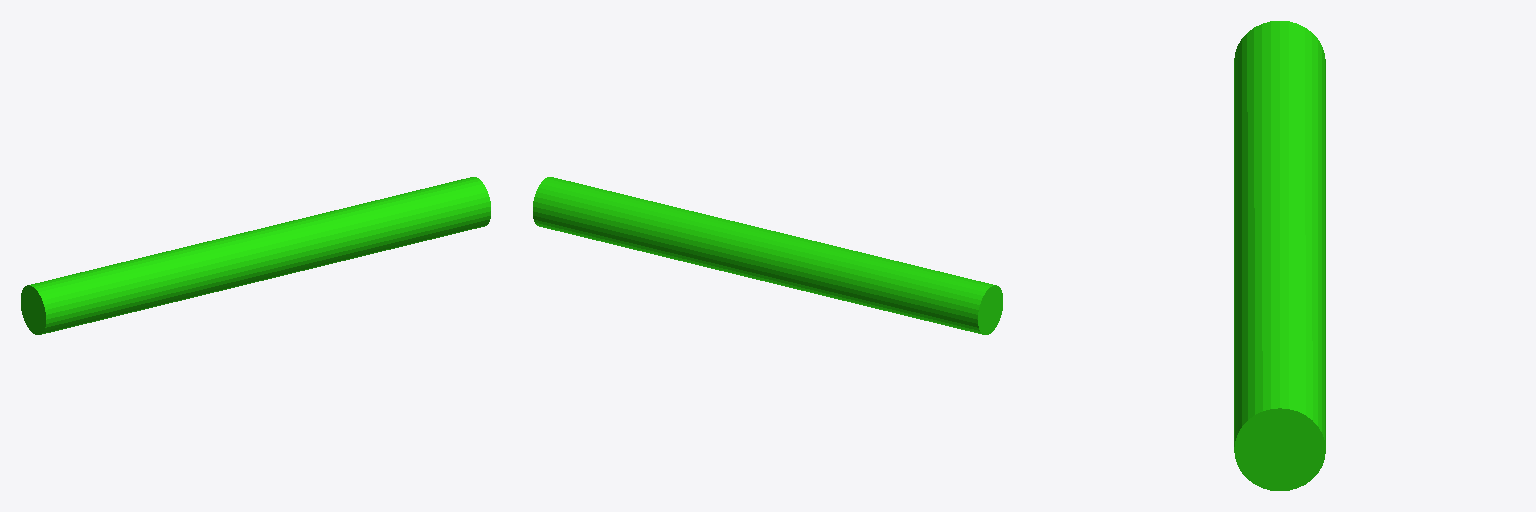
The robot description file, URDF, robot "Puma":
<?xml version="1.0" ?>

<robot name="Puma">

	<link name="ground">
		<inertial>
			<origin xyz="0.0 0.0 0.0" rpy="0 0 0" />
			<mass value="0.001" />
			<inertia ixx="0.01" iyy="0.01" izz="0.01" ixy="0" ixz="0" iyz="0" />
		</inertial>
		<visual>
			<origin xyz="0.0 0.0 0.0" rpy="0 0 0" />
			<geometry>
				<mesh filename="../../../../examples/models/puma560/meshes/base_bl.obj" scale="1 1 1" />
			</geometry>
		</visual>
	</link>

	<link name="base">
		<inertial>
			<origin xyz="0.0 0.0 0.0" rpy="0 0 0" />
			<mass value="34.4" />
			<inertia ixx="0.18" iyy="0.18" izz="0.35" ixy="0" ixz="0" iyz="0" />
		</inertial>
		<visual>
			<origin xyz="0.0 0.0 0.0" rpy="0 0 0" />
			<geometry>
				<mesh filename="../../../../examples/models/puma560/meshes/shoulder_bl.obj" scale="1 1 1" />
			</geometry>
		</visual>
	</link>

	<link name="upper_arm">
		<inertial>
			<origin xyz="0.068 0.006 -0.016" rpy="0 0 0" />
			<mass value="17.4" />
			<inertia ixx="0.130" iyy="0.524" izz="0.539" ixy="0" ixz="0" iyz="0" />
		</inertial>
		<visual>
			<origin xyz="0.0 0.0 0.0" rpy="0 0 0" />
			<geometry>
				<mesh filename="../../../../examples/models/puma560/meshes/upper_arm_bl.obj" scale="1 1 1" />
			</geometry>
		</visual>
	</link>

	<link name="lower_arm">
		<inertial>
			<origin xyz="0.0 -0.143 0.014" rpy="0 0 0" />
			<mass value="6.04" />
			<inertia ixx="0.066" iyy="0.0125" izz="0.086" ixy="0" ixz="0" iyz="0" />
		</inertial>
		<visual>
			<origin xyz="-0.02 0.0 -0.005" rpy="0 0 0" />
			<geometry>
				<mesh filename="../../../../examples/models/puma560/meshes/lower_arm_bl.obj" scale="1 1 1" />
			</geometry>
		</visual>
	</link>

	<link name="wrist-hand">
		<inertial>
			<origin xyz="0.0 0.0 -0.019" rpy="0 0 0" />
			<mass value="0.82" />
			<inertia ixx="0.0018" iyy="0.0018" izz="0.0013" ixy="0" ixz="0" iyz="0" />
		</inertial>
		<visual>
			<origin xyz="0.0 0.0 0.0" rpy="0 0 0" />
			<geometry>
				<mesh filename="../../../../examples/models/puma560/meshes/hand_bl.obj" scale="1 1 1" />
			</geometry>
		</visual>
	</link>

	<link name="wrist-finger">
		<inertial>
			<origin xyz="0.0 0.0 0.0" rpy="0 0 0" />
			<mass value="0.34" />
			<inertia ixx="0.0003" iyy="0.0003" izz="0.0004" ixy="0" ixz="0" iyz="0" />
		</inertial>
		<visual>
			<origin xyz="0.0 0.0 0.0" rpy="0 0 0" />
			<geometry>
				<mesh filename="../../../../examples/models/puma560/meshes/finger_bl.obj" scale="1 1 1" />
			</geometry>
		</visual>
	</link>

	<link name="end-effector">
		<inertial>
			<origin xyz="0.0 0.0 0.032" rpy="0 0 0" />
			<mass value="0.39" />
			<inertia ixx="0.005" iyy="0.001" izz="0.005" ixy="0" ixz="0" iyz="0" />
		</inertial>
		<visual>
			<origin xyz="0.0 0.1 0.0" rpy="1.5707 0 0" />
			<geometry>
                <cylinder radius="0.01" length="0.2" />
            </geometry>
            <material name="link5-1">
                <color rgba="0.2 0.9 0.1 1.0" />
            </material>
		</visual>
	</link>

	<joint name="shoulder-yaw" type="revolute">
		<parent link="ground" />
		<child link="base" />
		<origin xyz="0.0 0.0 0.66" rpy="0.0 0.0 0.0" />
		<axis xyz="0 0 1" />
		<calibration falling="90.0" />
		<limit lower="-3.14159" upper="3.14159" effort="97.6" velocity="1.0" />
	</joint>

	<joint name="shoulder-pitch" type="revolute">
		<parent link="base" />
		<child link="upper_arm" />
		<origin xyz="0.0 0.2435 0.0" rpy="-1.5707963268 0.0 0.0" />
		<axis xyz="0 0 1" />
		<calibration falling="30.0" />
		<limit lower="-3.14159" upper="3.14159" effort="186.4" velocity="1.0" />
	</joint>

	<joint name="elbow" type="revolute">
		<parent link="upper_arm" />
		<child link="lower_arm" />
		<origin xyz="0.4318 0.0 -0.0934" rpy="0.0 0.0 0.0" />
		<axis xyz="0 0 1" />
		<limit lower="-3.14159" upper="3.14159" effort="89.4" velocity="1.0" />
	</joint>

	<joint name="wrist-roll1" type="revolute">
		<parent link="lower_arm" />
		<child link="wrist-hand" />
		<origin xyz="-0.0203 -0.4331 0.0" rpy="1.5707963268 0.0 0.0" />
		<axis xyz="0 0 1" />
		<calibration falling="-90.0" />
		<limit lower="-3.14159" upper="3.14159" effort="24.2" velocity="1.0" />
	</joint>

	<joint name="wrist-pitch" type="revolute">
		<parent link="wrist-hand" />
		<child link="wrist-finger" />
		<origin xyz="0.0 0.0 0.0" rpy="0 1.5707963268 -3.1415926536" />
		<axis xyz="0 0 1" />
		<calibration falling="-30.0" />
		<limit lower="-3.14159" upper="3.14159" effort="20.1" velocity="1.0" />
	</joint>

	<joint name="wrist-roll2" type="revolute">
		<parent link="wrist-finger" />
		<child link="end-effector" />
		<origin xyz="-0.07 0.0 0.0" rpy="1.5707 0.0 0.0" />
		<axis xyz="1 0 0" />
		<limit lower="-3.14159" upper="3.14159" effort="21.3" velocity="1.0" />
	</joint>

</robot>

--- Facts derived from the render (not from the file) ---
Views: 3 orthographic renders of the robot side by side, from view 1: azimuth 30°, elevation 25°; view 2: azimuth 150°, elevation 25°; view 3: azimuth 270°, elevation 25°.
Model Puma with 7 links and 6 joints (6 revolute), rooted at ground, posed all joints at 0.
Visible links, largest first — view 1: end-effector; view 2: end-effector; view 3: end-effector.
Link boxes in pixels (box(x1,y1,x2,y2)): end-effector: box(21, 177, 490, 334); end-effector: box(533, 177, 1002, 334); end-effector: box(1234, 21, 1325, 490).
Bounding box of the posed robot: 0.2 × 0.02 × 0.02 m (x, y, z).
Geometry: only primitive shapes (box / cylinder / sphere) drawn; not drawn: 6 mesh visuals (reference in a form the renderer does not follow).